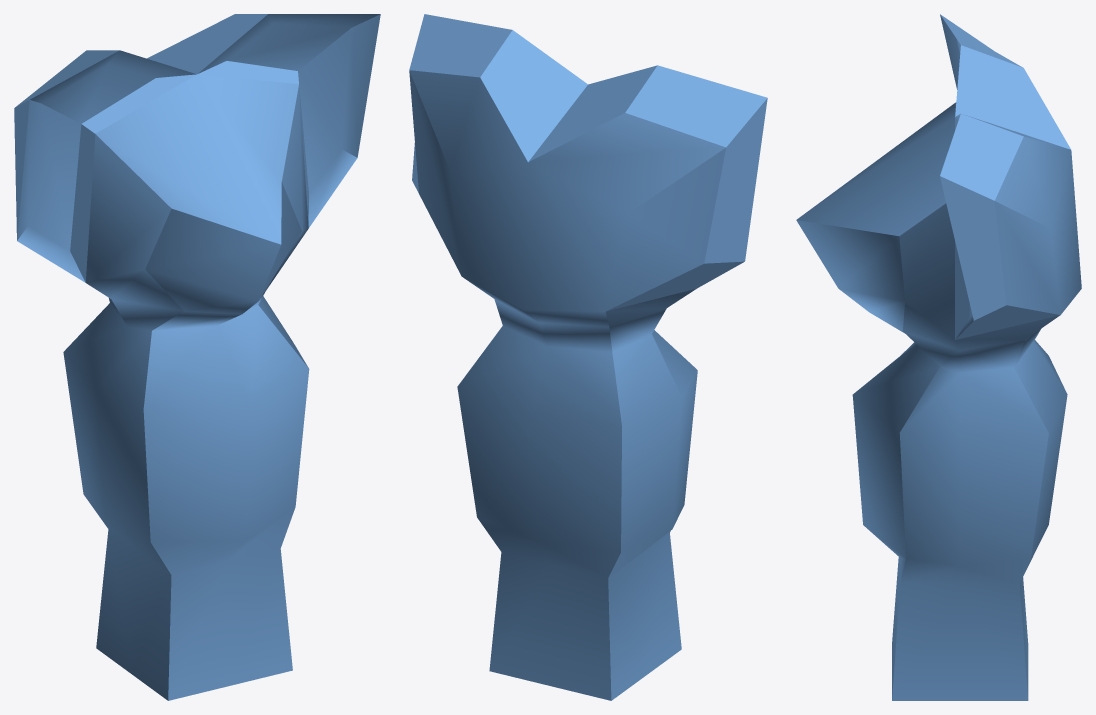
Rendered from tempCharacter.fbx.
The picture shows the model from 3 angles, left to right: view 1: azimuth 30°, elevation 25°; view 2: azimuth 150°, elevation 25°; view 3: azimuth 270°, elevation 25°; orthographic projection. The views are drawn at different scales.
Parts seen in each view (by area): view 1: Character; view 2: Character; view 3: Character.
Part boxes in pixels (<box>): Character: <box>14,14,380,700</box>; Character: <box>409,14,767,700</box>; Character: <box>796,14,1081,700</box>.
Size of the model in its own units: 1.17 by 2 by 0.8738.
